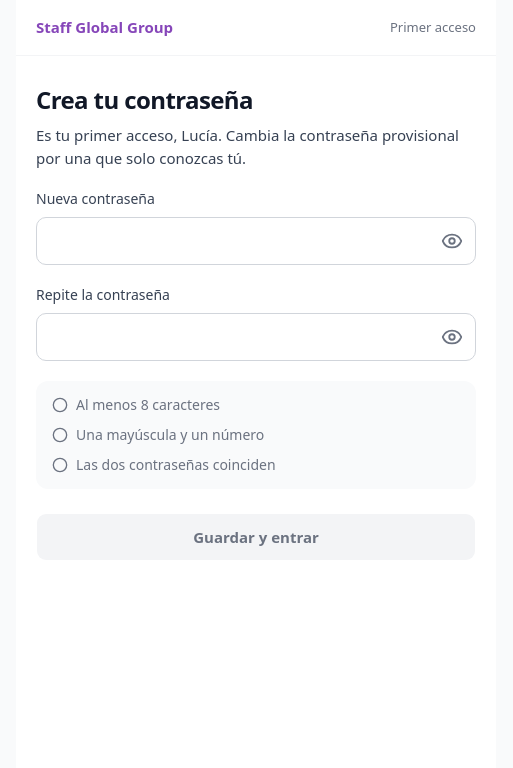
primer acceso › guardar se activa solo con los 3 requisitos y lleva a Mis cursos
Type "eucerin" into the password field labelled "Nueva contraseña" at (256, 241), box [36, 217, 476, 265]
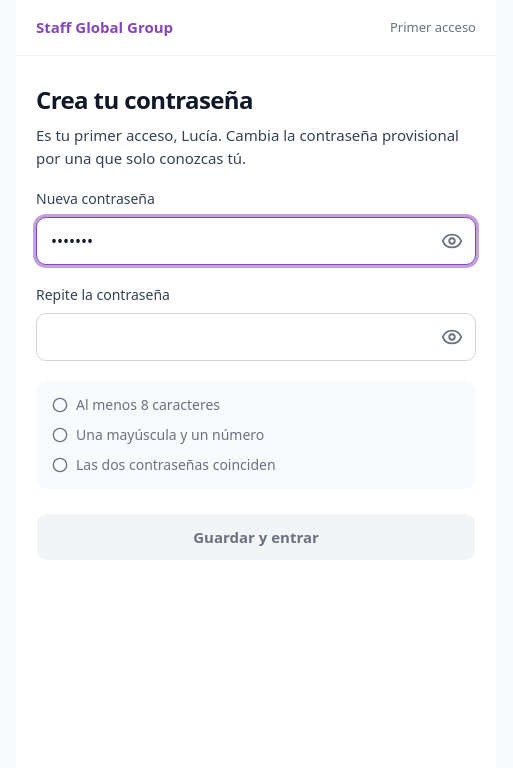
Check: the button "Guardar y entrar" is disabled, box [36, 513, 476, 561]
Type "Eucerin2026" into the password field labelled "Nueva contraseña" at (256, 241), box [36, 217, 476, 265]
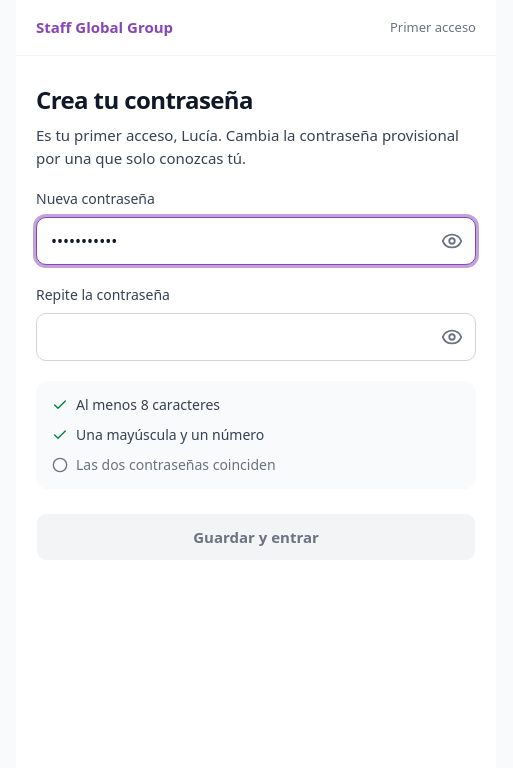
Type "Eucerin20" into the password field labelled "Repite la contraseña" at (256, 337), box [36, 313, 476, 361]
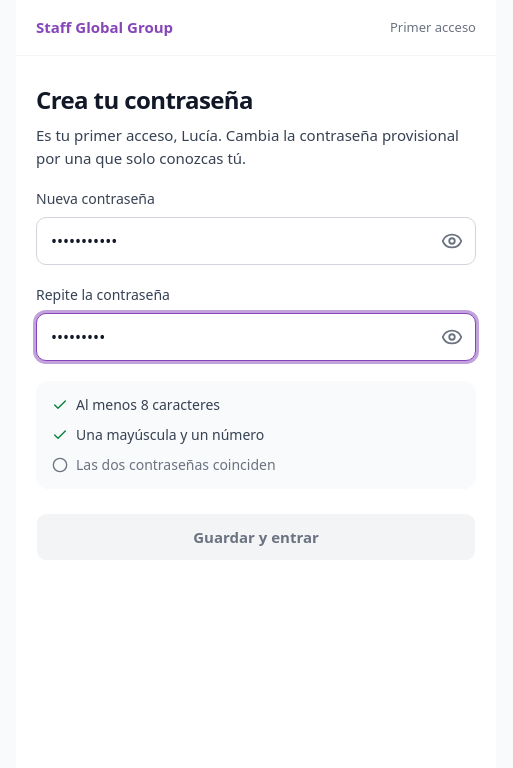
Check: the button "Guardar y entrar" is disabled, box [36, 513, 476, 561]
Type "26" into the password field labelled "Repite la contraseña" at (256, 337), box [36, 313, 476, 361]
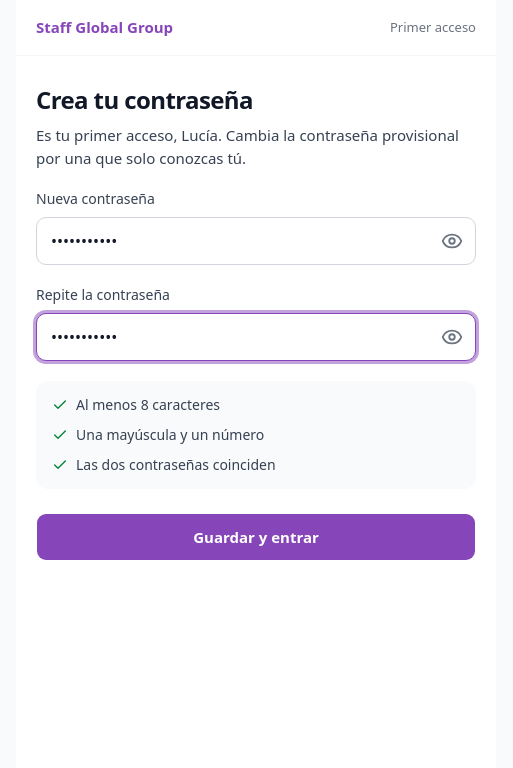
Check: the button "Guardar y entrar" is enabled
Click the button "Guardar y entrar" at (256, 537), box [36, 513, 476, 561]
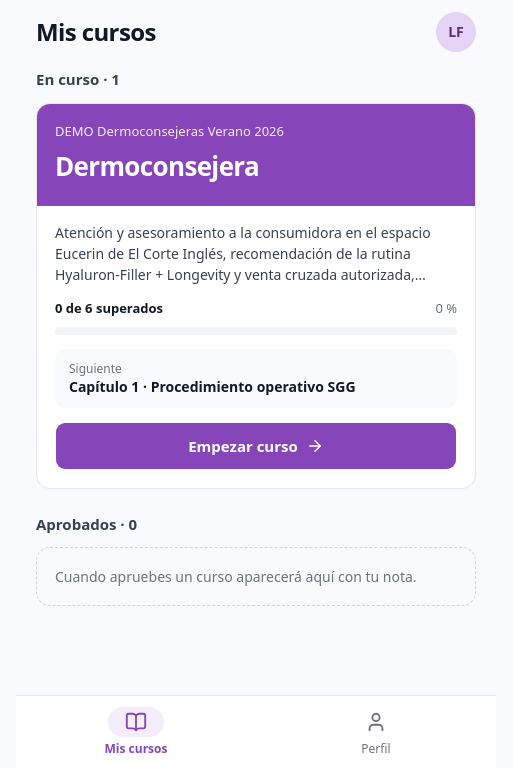
Check: the heading "Mis cursos" is shown, box [36, 15, 156, 48]
